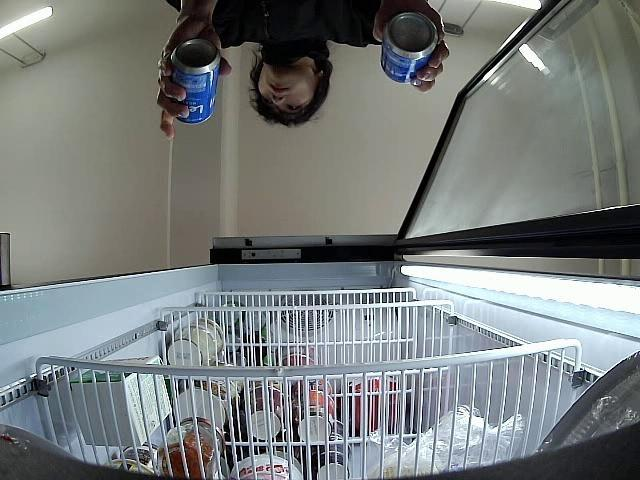15_letsbe: (170, 40, 222, 124), (381, 12, 440, 85)
